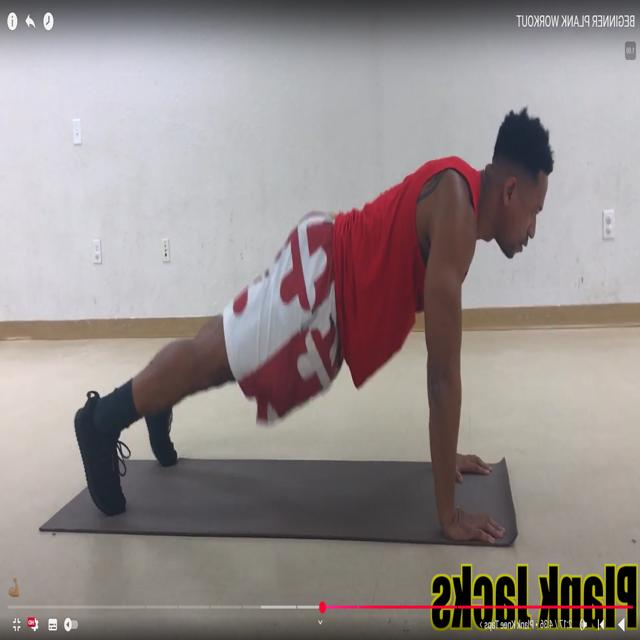Plank_Pose: (72, 99, 556, 558)
